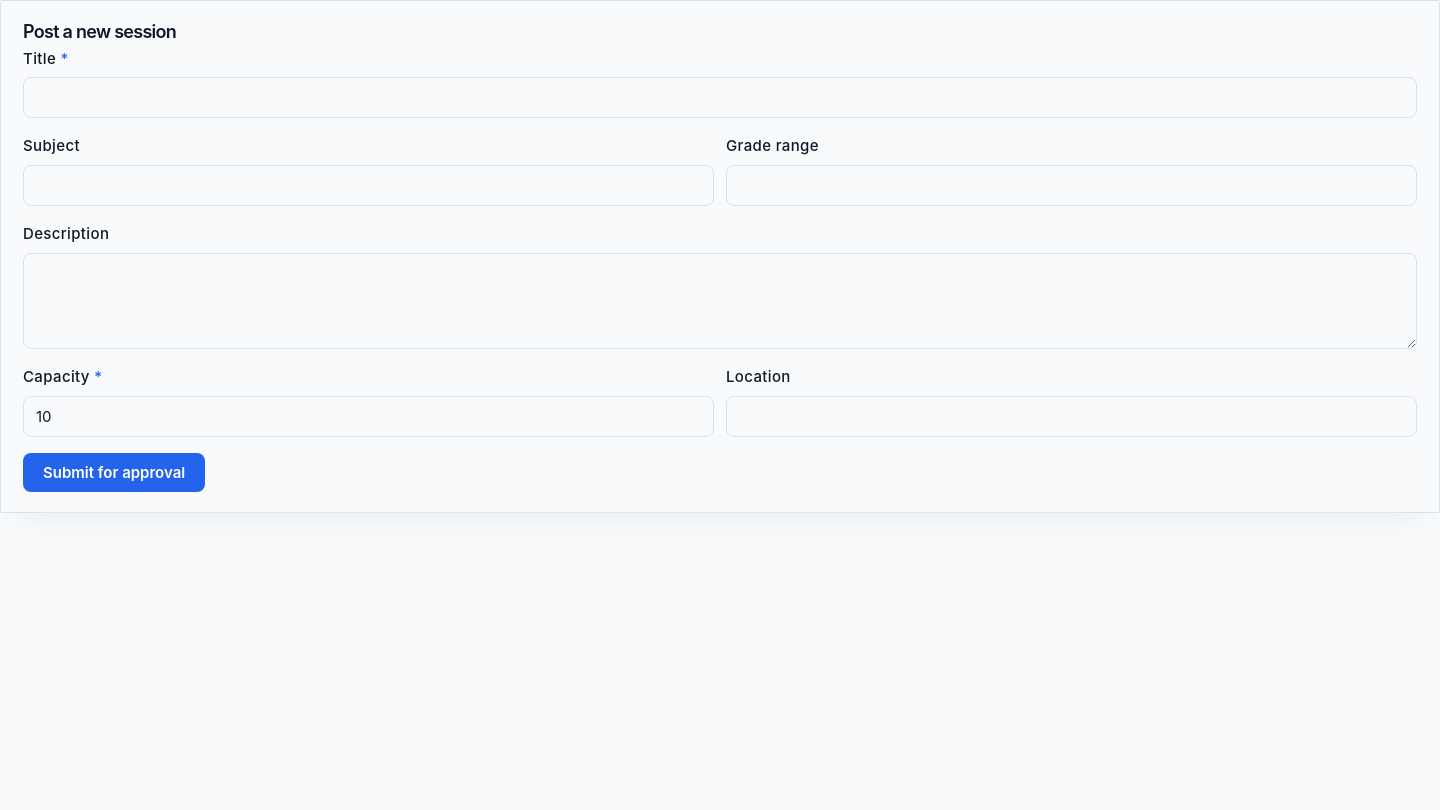
Test: SectionForm › rejects a non-numeric capacity
The image size is (1440, 810).
Type "My Class" into the field labelled "Title *" at (720,98), box [23,77,1417,118]
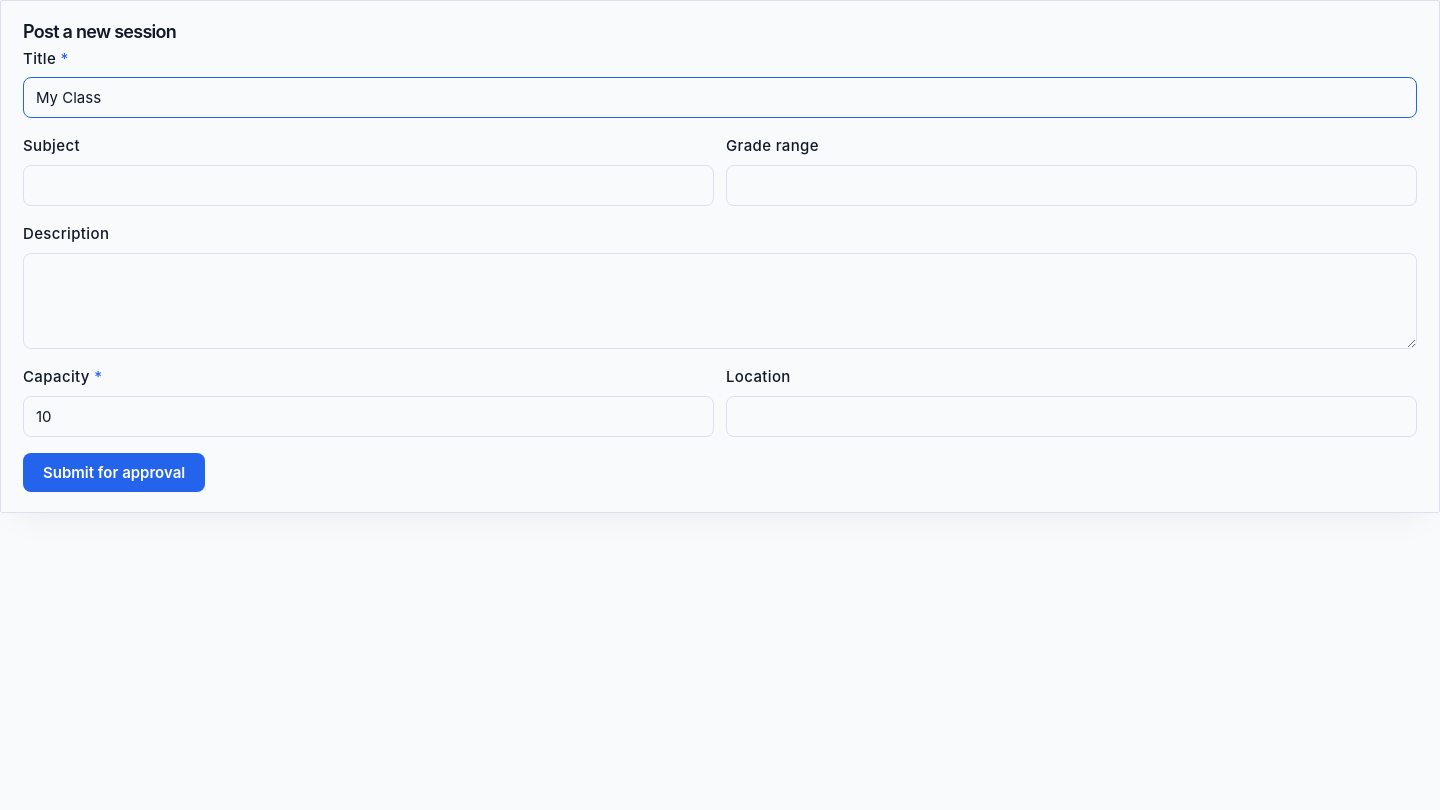
Clear the number field labelled "Capacity *" at (368,416), box [23,396,714,437]
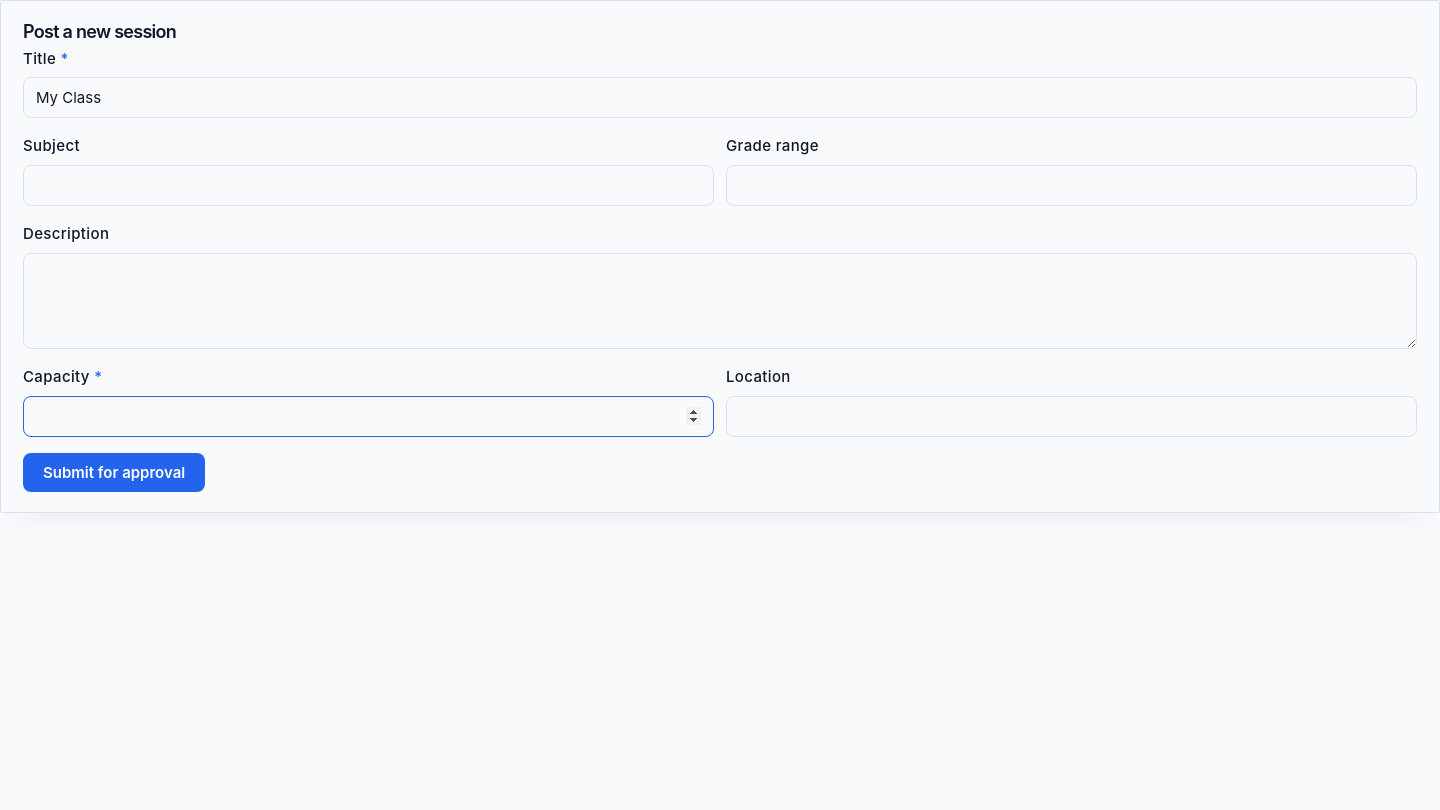
Click the button "Submit for approval" at (114,472), box [23,453,205,492]
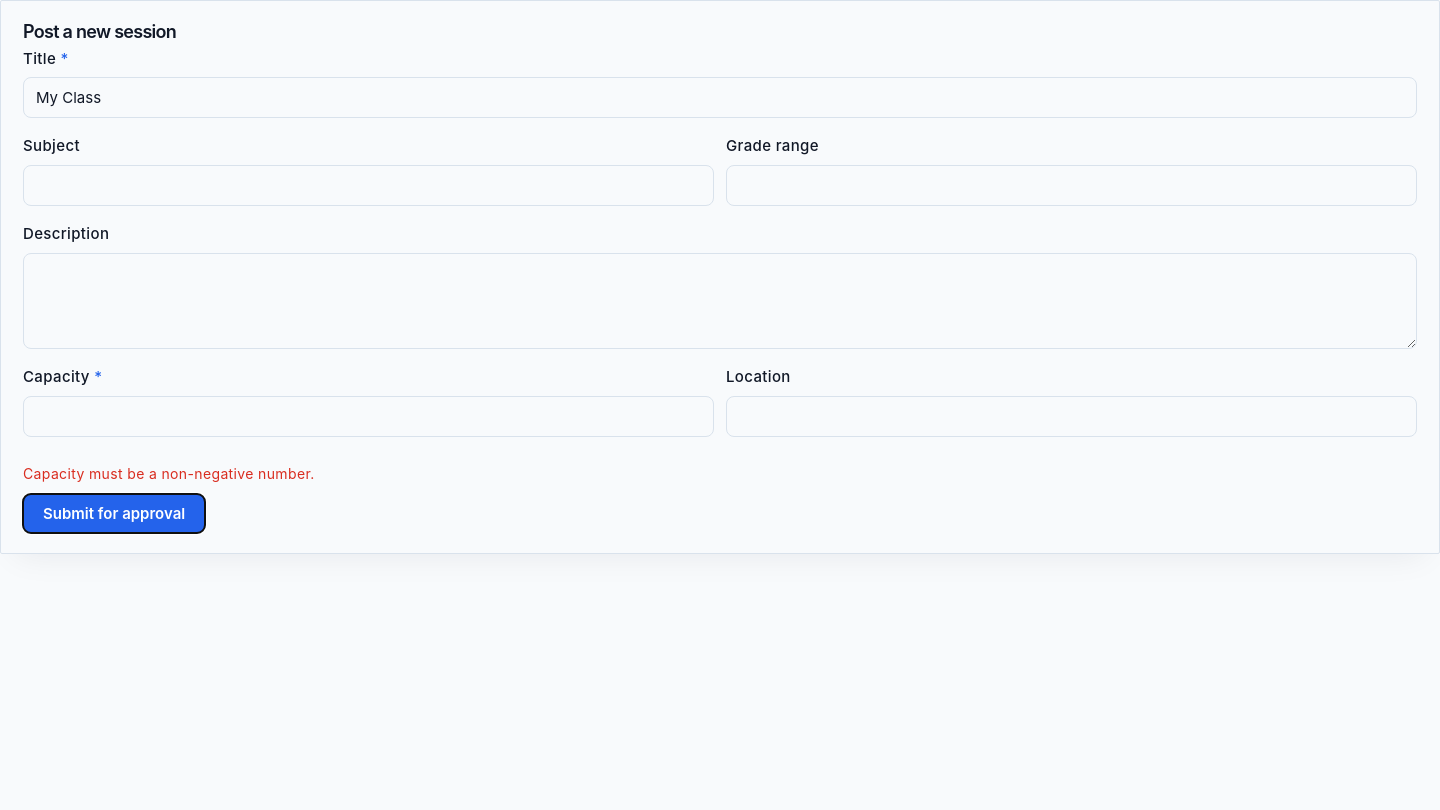
Expected: the text "Capacity must be a non-negative number." is shown, [23,465,315,482]
